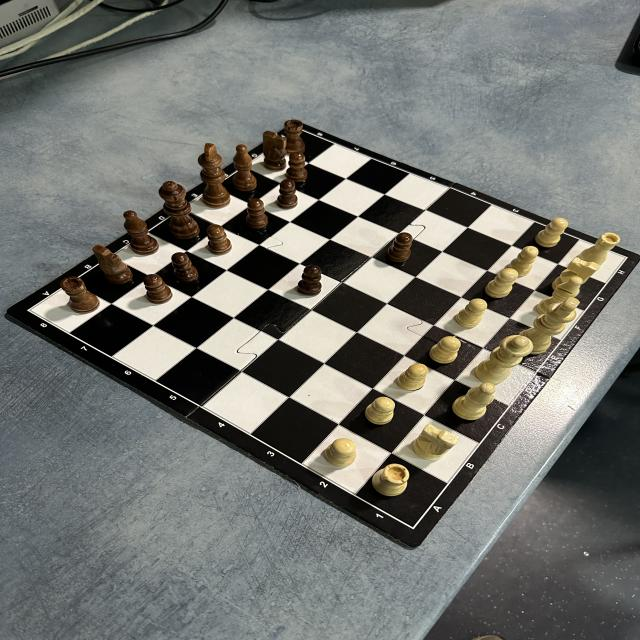Black-Bishop: (123, 210, 159, 256), (232, 144, 257, 192)
Black-King: (197, 142, 231, 208)
Black-Knight: (93, 244, 133, 285), (263, 130, 283, 172)
Black-Pawn: (144, 274, 173, 304), (171, 252, 199, 283), (387, 232, 413, 263), (297, 264, 322, 296), (207, 224, 232, 255), (276, 179, 298, 209), (246, 198, 268, 228), (286, 154, 308, 182)
Black-Queen: (157, 180, 200, 240)
Black-Rook: (60, 276, 100, 314), (284, 119, 304, 154)
White-Bishop: (536, 276, 584, 314), (451, 383, 496, 420)
White-King: (521, 296, 581, 354)
White-Knight: (412, 424, 460, 461), (551, 256, 600, 292)
White-Pawn: (534, 217, 569, 248), (485, 268, 519, 298), (455, 298, 489, 328), (507, 246, 539, 276), (324, 438, 357, 467), (428, 336, 462, 364), (396, 362, 429, 390), (364, 396, 396, 424)
White-Queen: (474, 334, 534, 384)
White-Rook: (579, 232, 620, 265), (372, 463, 410, 497)
